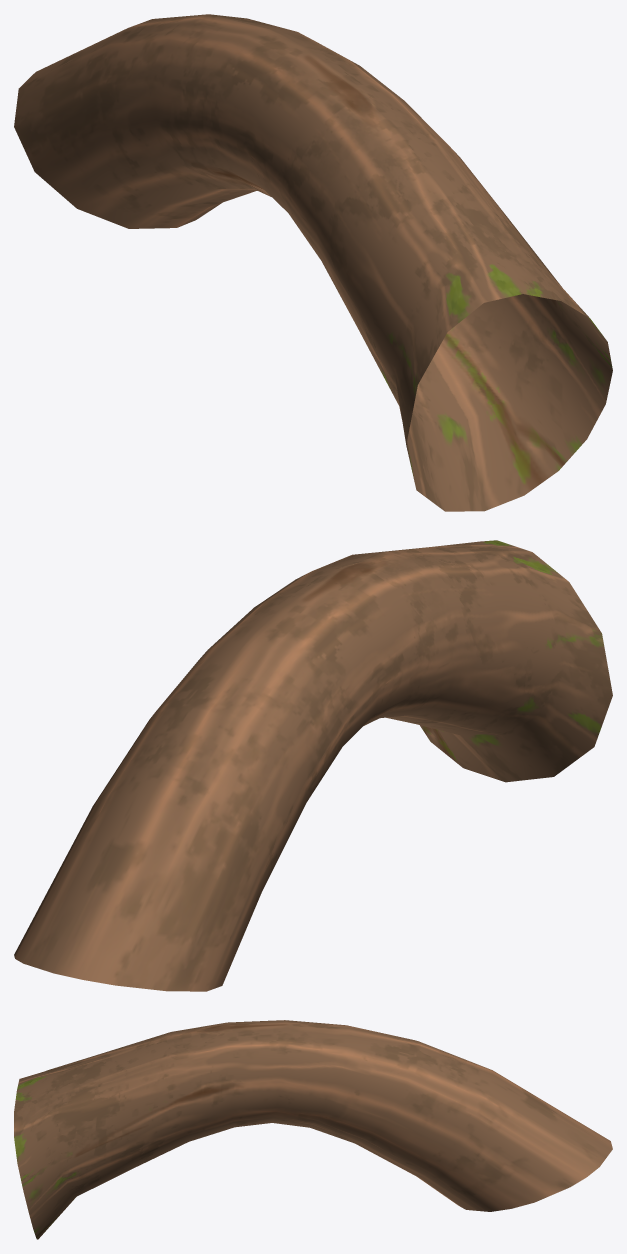
Rendered from Bold_Tree_Bend02.fbx.
The picture shows the model from 3 angles, top to bottom: view 1: azimuth 30°, elevation 25°; view 2: azimuth 150°, elevation 25°; view 3: azimuth 270°, elevation 25°; orthographic projection. The views are drawn at different scales.
Parts seen in each view (by area): view 1: Bold_Tree_Bend02; view 2: Bold_Tree_Bend02; view 3: Bold_Tree_Bend02.
Part boxes in pixels (left/top/right/bottom): Bold_Tree_Bend02: left=14, top=14, right=612, bottom=511; Bold_Tree_Bend02: left=14, top=540, right=612, bottom=991; Bold_Tree_Bend02: left=14, top=1020, right=612, bottom=1239.
Size of the model in its own units: 1191 by 1707 by 4438.
Materials: 1 (1 with a texture image).
